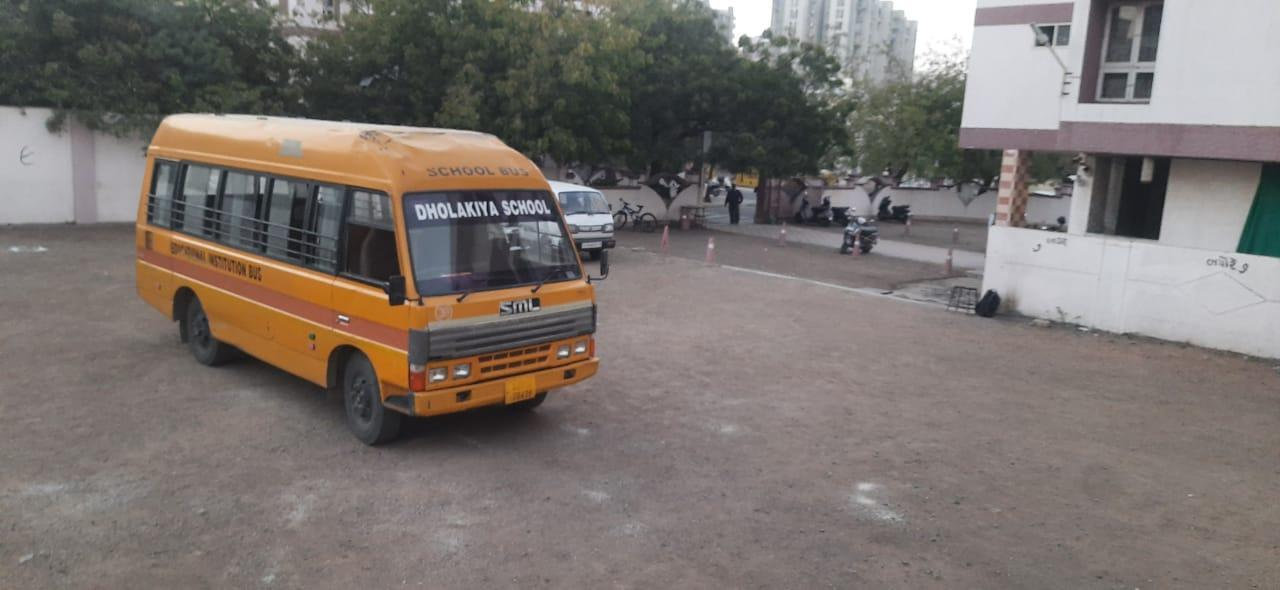Bus: (113, 82, 626, 482)
